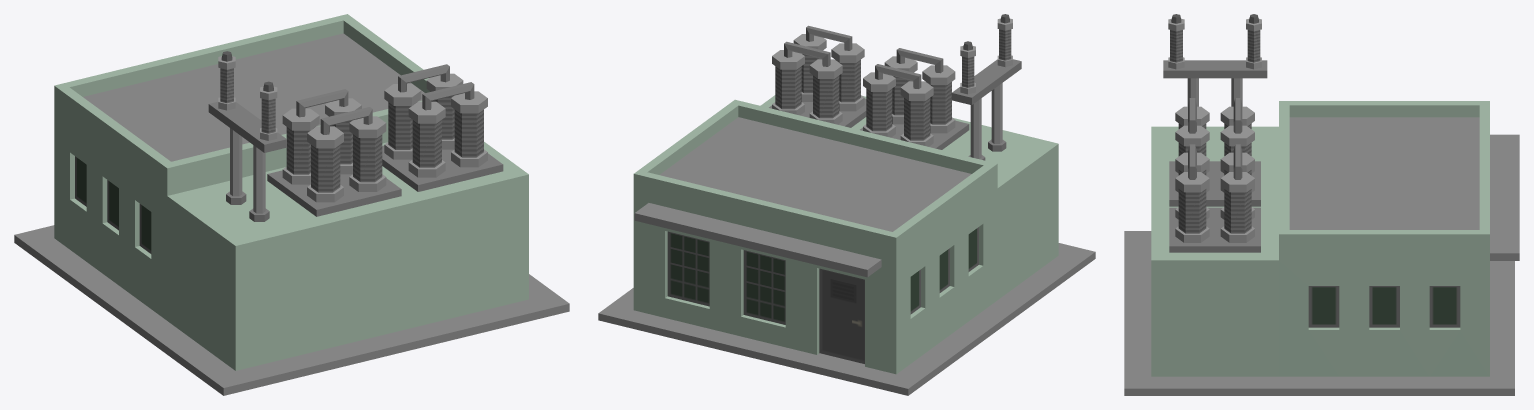
Rendered from west_zs12.FBX.
The picture shows the model from 3 angles, left to right: view 1: azimuth 30°, elevation 25°; view 2: azimuth 150°, elevation 25°; view 3: azimuth 270°, elevation 25°; orthographic projection. The views are drawn at different scales.
Visible parts, largest first — view 1: west_zs12; view 2: west_zs12; view 3: west_zs12.
Boxes of the visible parts, box(x1,y1,x2,y2) form: west_zs12: box(14, 14, 569, 395); west_zs12: box(598, 14, 1095, 395); west_zs12: box(1124, 14, 1519, 395).
Bounding box in the file's own units: 1058 × 801 × 1121.
